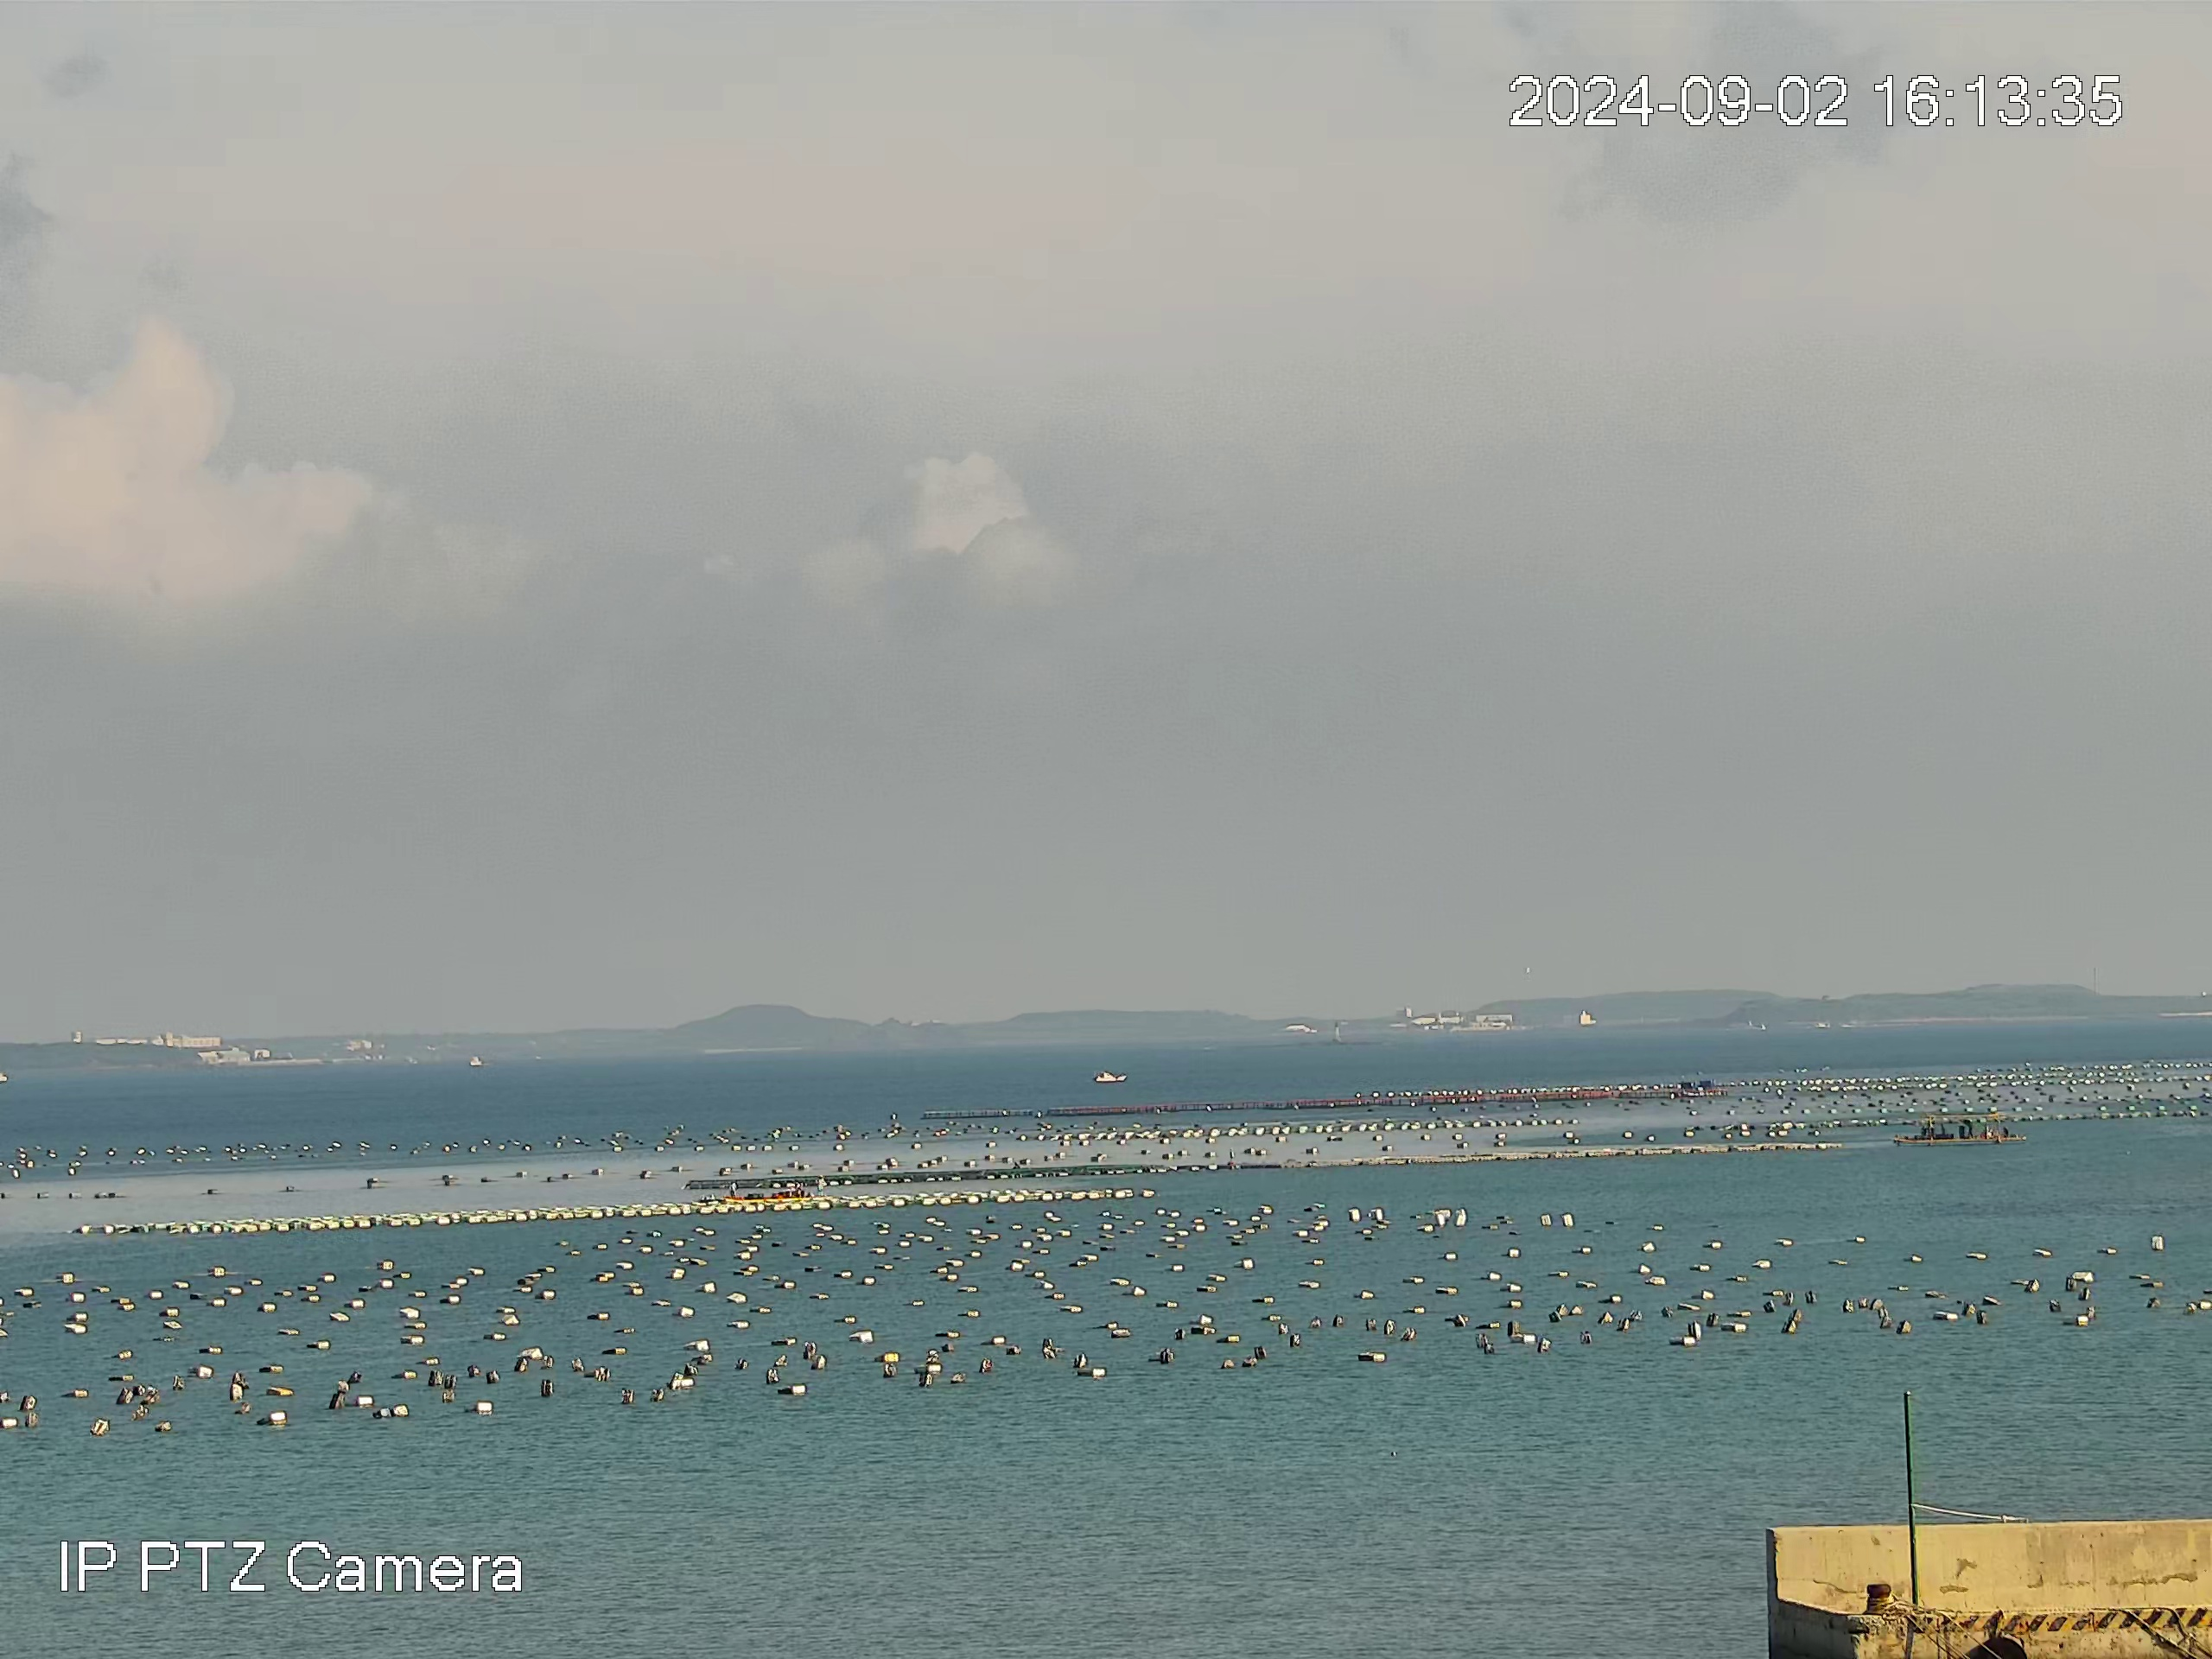boat: (1892, 1112, 2027, 1145), (721, 1180, 815, 1204), (1092, 1070, 1128, 1084)
